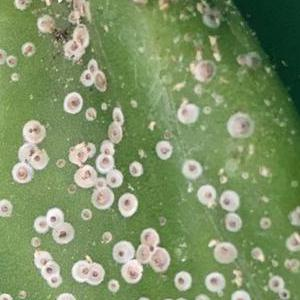Femea: (217, 191, 236, 210), (21, 122, 41, 140), (181, 160, 202, 177), (120, 264, 141, 281), (65, 94, 82, 114), (197, 186, 218, 202), (95, 188, 111, 209), (204, 273, 221, 292), (114, 244, 132, 261), (53, 224, 70, 241), (116, 197, 133, 213), (11, 167, 30, 181), (88, 265, 104, 281), (75, 264, 90, 280), (34, 253, 50, 268), (156, 142, 170, 159), (19, 41, 36, 55), (107, 169, 121, 186), (35, 217, 49, 234), (173, 274, 187, 290), (33, 152, 49, 166), (97, 156, 111, 171), (80, 70, 93, 86), (48, 212, 62, 226), (42, 263, 55, 277), (129, 162, 141, 176), (46, 274, 58, 288), (5, 53, 15, 67)
